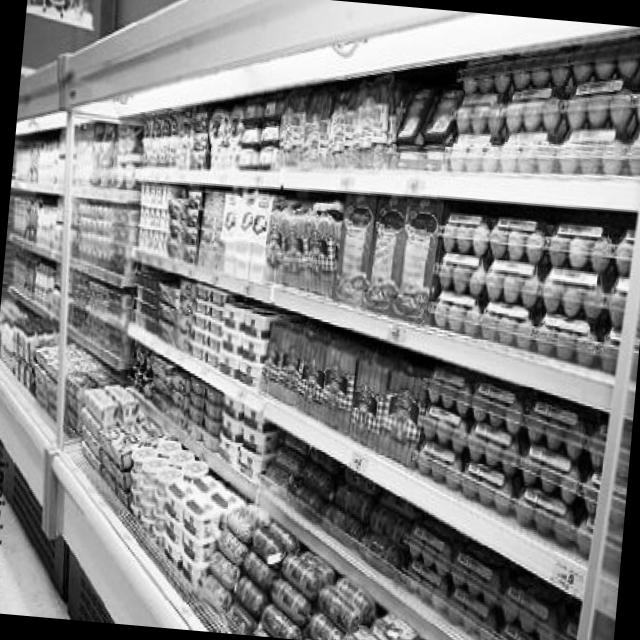eggs: (414, 363, 609, 558), (429, 208, 637, 371), (451, 34, 640, 173), (399, 512, 582, 640)
floor -X: (0, 482, 72, 616)
margarine: (163, 470, 250, 583)
sausage: (263, 313, 435, 468)
showcase occluded: (0, 0, 640, 640)
wall clock: (23, 0, 174, 74)
